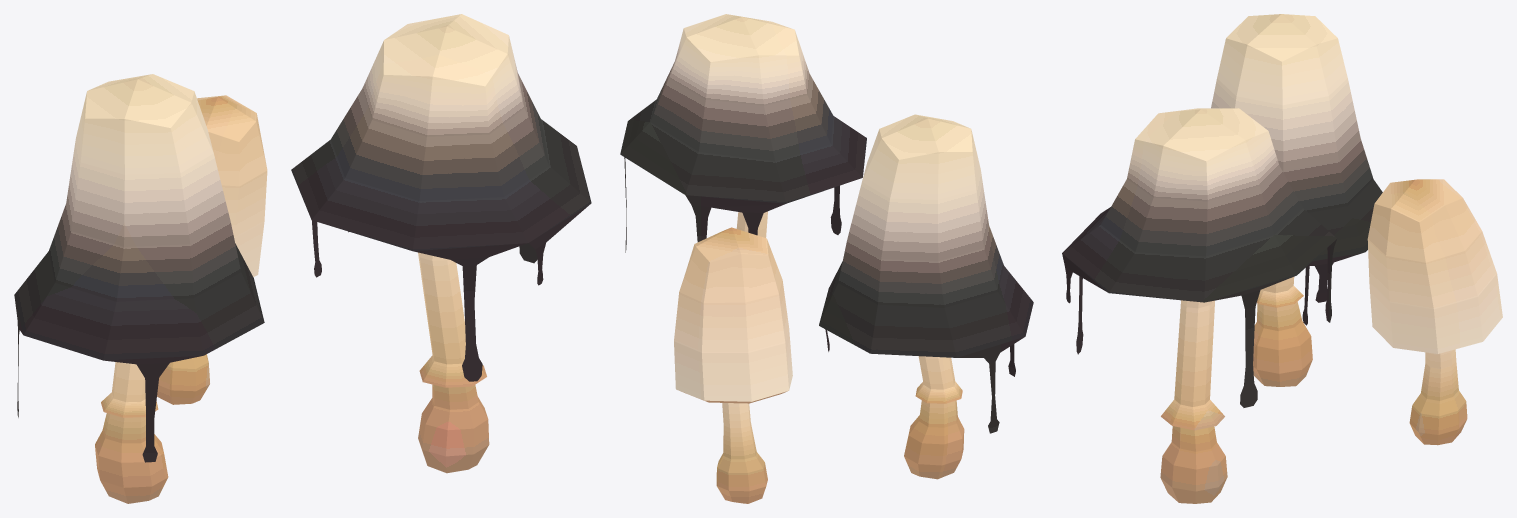
File: InkCaps_Group.glb
3 views of the same model, side by side, from view 1: azimuth 30°, elevation 25°; view 2: azimuth 150°, elevation 25°; view 3: azimuth 270°, elevation 25° (orthographic). The views are drawn at different scales.
Visible parts, largest first — view 1: ink 1; view 2: ink 1; view 3: ink 1.
Part boxes in pixels (x1,y1,x2,y2): ink 1: (14, 14, 591, 503); ink 1: (620, 14, 1033, 503); ink 1: (1062, 14, 1502, 503).
Bounding box in the file's own units: 10.52 × 8.71 × 8.86.
1 material, 1 textured.
